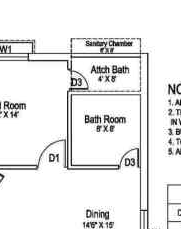door: (34, 136, 68, 173), (62, 68, 94, 90), (118, 147, 140, 171)
